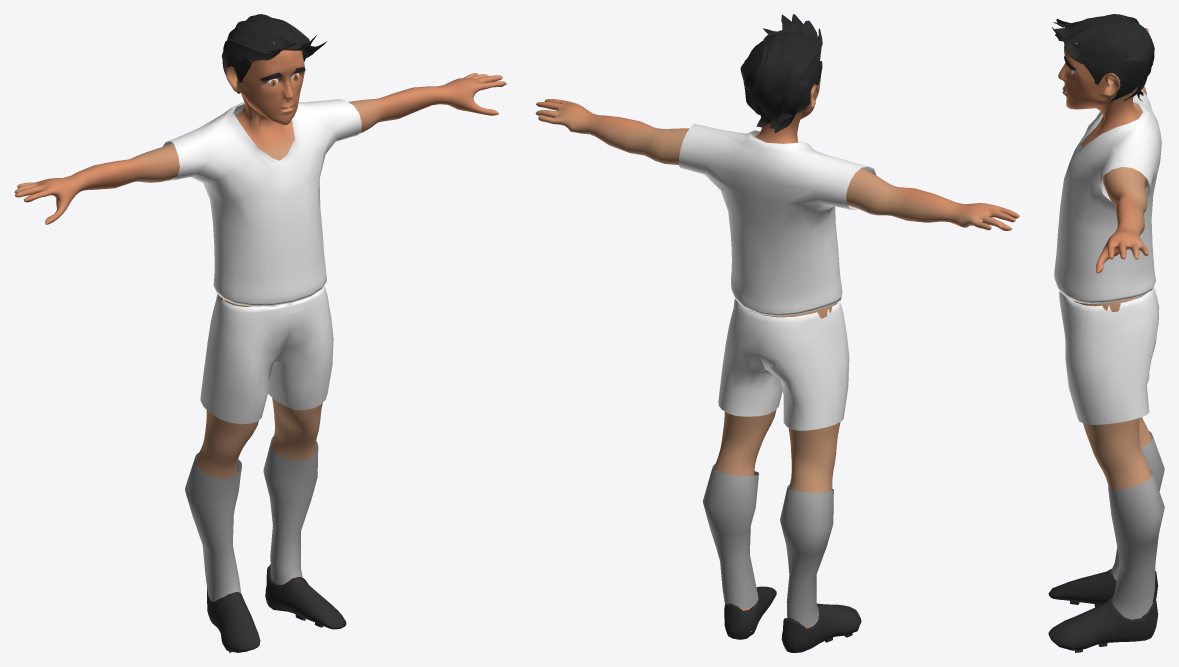
Rendered from jugador_futbol1.fbx.
The picture shows the model from 3 angles, left to right: view 1: azimuth 30°, elevation 25°; view 2: azimuth 150°, elevation 25°; view 3: azimuth 270°, elevation 25°; orthographic projection.
Visible parts, largest first — view 1: Extract1_1, prensa_personaje_director1, Extract3_1, prensa_personaje_director2, Extract13_01, pPlane3, pPlane6, pPlane5; view 2: Extract1_1, prensa_personaje_director1, Extract3_1, prensa_personaje_director2, Extract13_01, pPlane6, pPlane7, pPlane3, pPlane8, pPlane5; view 3: Extract1_1, prensa_personaje_director1, Extract3_1, prensa_personaje_director2, Extract13_01, pPlane8, pPlane4, pPlane7, pPlane6.
Part boxes in pixels (x1=…): Extract1_1: x1=163, y1=99, x2=361, y2=306; prensa_personaje_director1: x1=14, y1=42, x2=506, y2=602; Extract3_1: x1=200, y1=285, x2=333, y2=424; prensa_personaje_director2: x1=185, y1=436, x2=318, y2=601; Extract13_01: x1=207, y1=564, x2=346, y2=652; pPlane3: x1=223, y1=21, x2=296, y2=53; pPlane6: x1=227, y1=18, x2=309, y2=50; pPlane5: x1=222, y1=36, x2=280, y2=93; Extract1_1: x1=678, y1=124, x2=875, y2=316; prensa_personaje_director1: x1=535, y1=37, x2=1019, y2=631; Extract3_1: x1=718, y1=299, x2=849, y2=430; prensa_personaje_director2: x1=703, y1=464, x2=833, y2=626; Extract13_01: x1=724, y1=586, x2=861, y2=652; pPlane6: x1=764, y1=14, x2=808, y2=128; pPlane7: x1=753, y1=14, x2=791, y2=127; pPlane3: x1=774, y1=20, x2=820, y2=130; pPlane8: x1=740, y1=28, x2=776, y2=114; pPlane5: x1=774, y1=28, x2=822, y2=133; Extract1_1: x1=1054, y1=90, x2=1161, y2=304; prensa_personaje_director1: x1=1058, y1=28, x2=1152, y2=619; Extract3_1: x1=1059, y1=286, x2=1159, y2=424; prensa_personaje_director2: x1=1108, y1=431, x2=1164, y2=618; Extract13_01: x1=1048, y1=568, x2=1158, y2=652; pPlane8: x1=1063, y1=22, x2=1153, y2=100; pPlane4: x1=1082, y1=54, x2=1148, y2=102; pPlane7: x1=1055, y1=19, x2=1154, y2=101; pPlane6: x1=1052, y1=14, x2=1143, y2=93.
Bounding box in the file's own units: 12.79 × 15.22 × 2.63.
